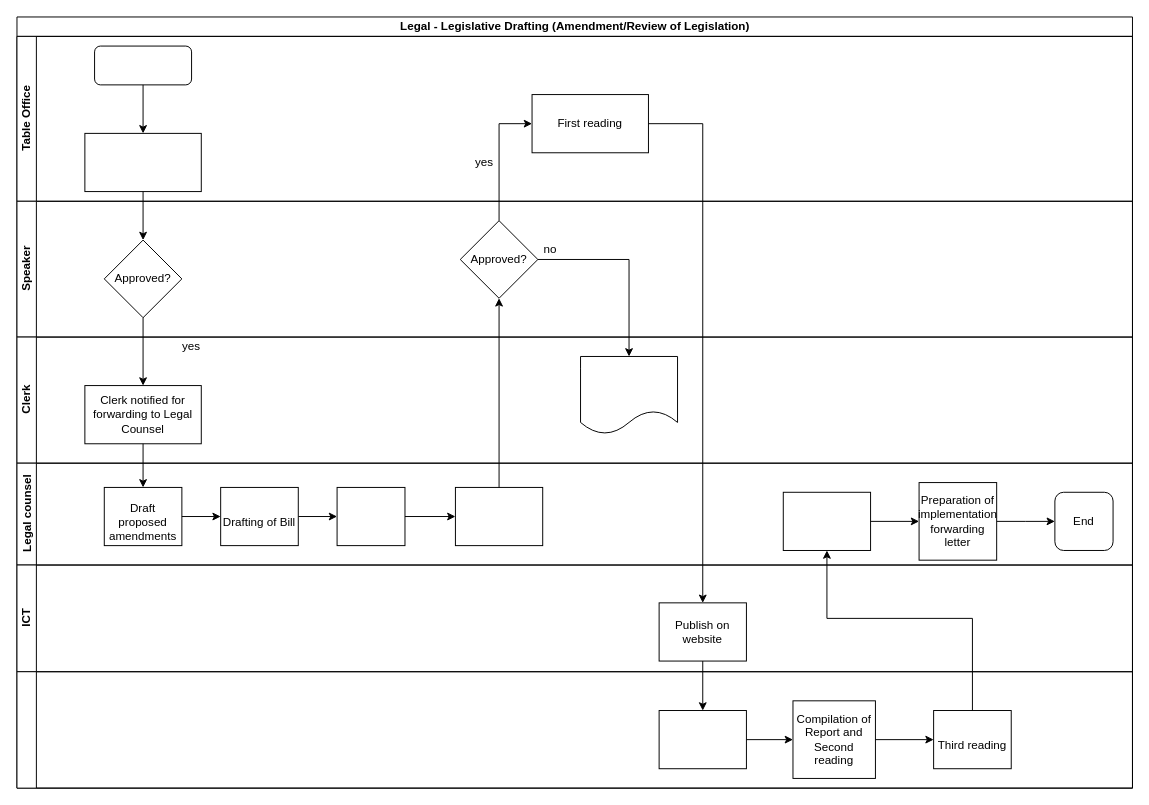
Image size: 1149x805. Some labels were removed from this diagram. Each missing label, with the box of its shape:
Bill Publishing: (336, 486, 405, 546)
Clerk Assistant: (16, 671, 1132, 788)
Draft Bill notification to the Speaker: (454, 486, 543, 546)
Note to clerk: (580, 356, 678, 434)
Request for Amendment/Review of Legislation: (84, 132, 201, 192)
Start: (94, 45, 192, 85)
Submission of Public views: (658, 710, 746, 769)
Vellum preparation: (782, 491, 871, 550)
